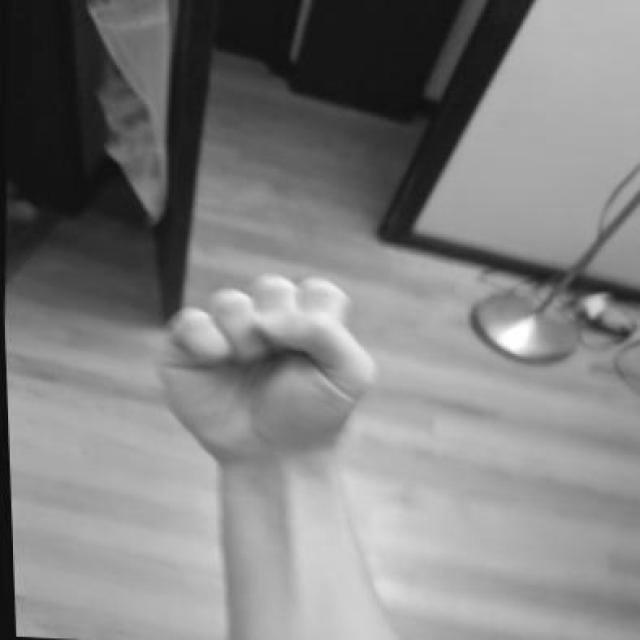S: (127, 260, 388, 479)
